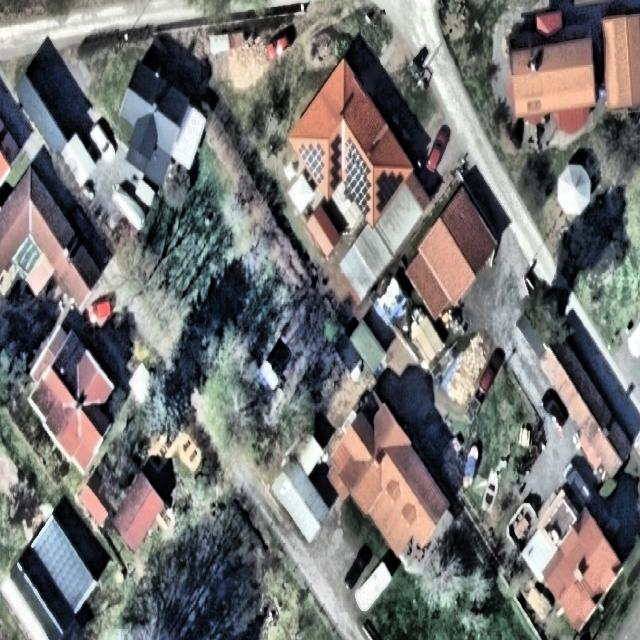roof_pv: (342, 134, 372, 219), (297, 140, 330, 185), (374, 166, 405, 210), (327, 132, 345, 190)
